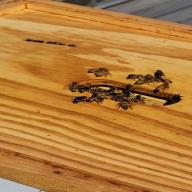Bee: (82, 64, 117, 80), (113, 99, 140, 115)
